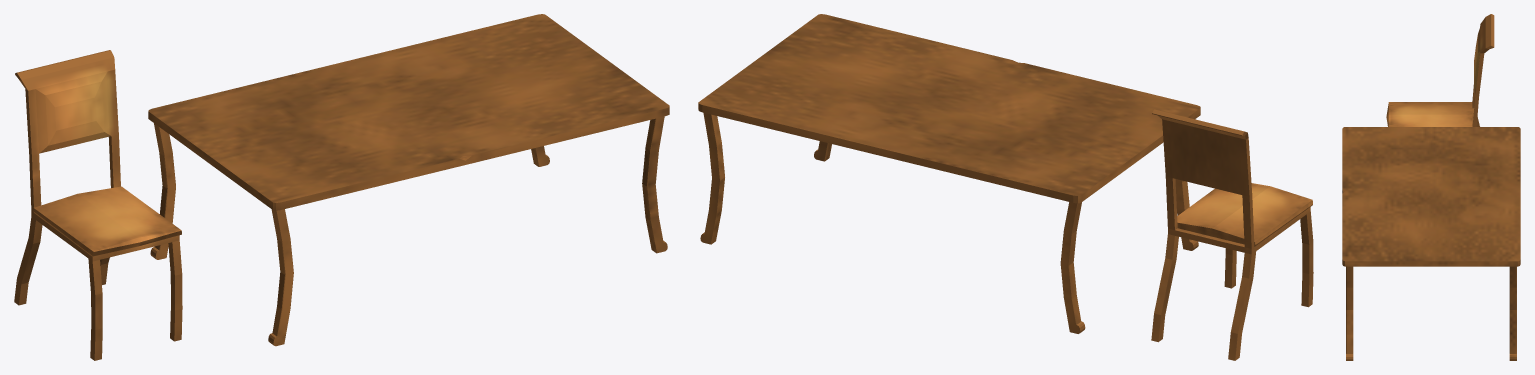
Rendered from Chair and Table.fbx.
3 renders of one model, left to right at view 1: azimuth 30°, elevation 25°; view 2: azimuth 150°, elevation 25°; view 3: azimuth 270°, elevation 25°, orthographic. The views are drawn at different scales.
Parts seen in each view (by area): view 1: Table, Chair; view 2: Table, Chair; view 3: Table, Chair.
Boxes of the visible parts, x1,y1,x2,y2 form: Table: [148, 14, 669, 346]; Chair: [14, 50, 182, 360]; Table: [698, 14, 1200, 333]; Chair: [1151, 109, 1313, 360]; Table: [1342, 127, 1520, 360]; Chair: [1386, 14, 1494, 126].
Bounding box in the file's own units: 3.94 × 1.61 × 1.6.
